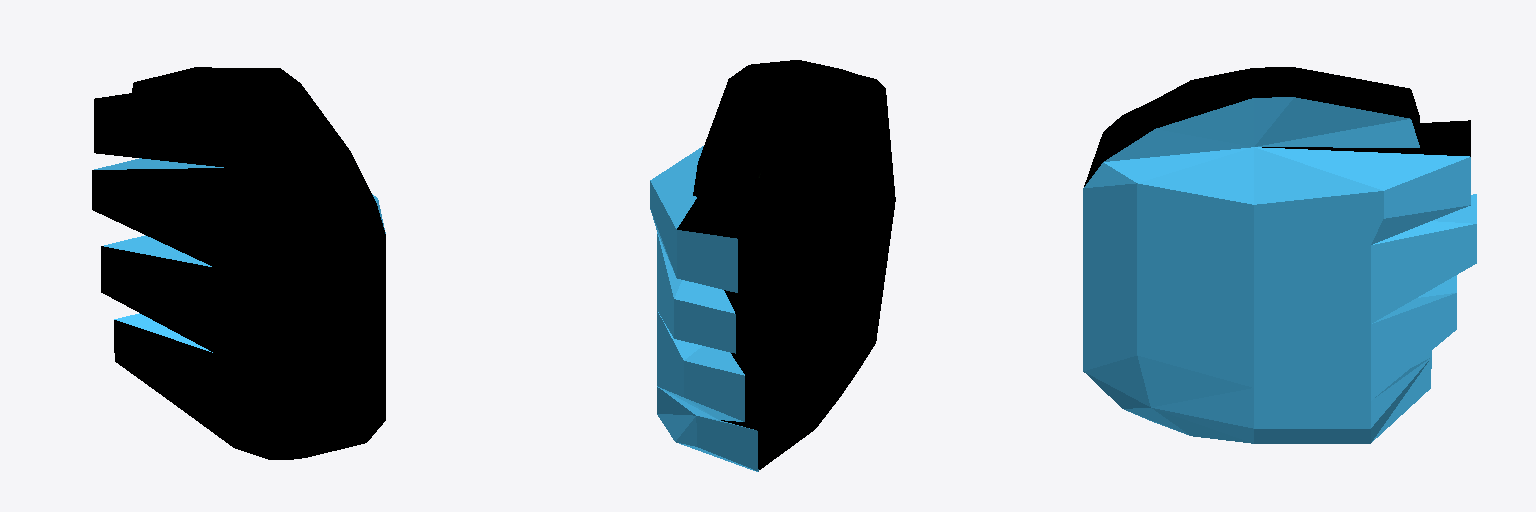
The picture shows the model from 3 angles: view 1: azimuth 30°, elevation 25°; view 2: azimuth 150°, elevation 25°; view 3: azimuth 270°, elevation 25°; orthographic projection.
Visible parts, largest first — view 1: パンチ左_立方体.002; view 2: パンチ左_立方体.002; view 3: パンチ左_立方体.002.
Boxes of the visible parts, box(x1,y1,x2,y2) form: パンチ左_立方体.002: box(92, 67, 385, 459); パンチ左_立方体.002: box(650, 60, 895, 471); パンチ左_立方体.002: box(1083, 67, 1476, 443).
Size of the model in its own units: 0.2253 by 0.5694 by 0.5814.
1 materials, 1 textured.